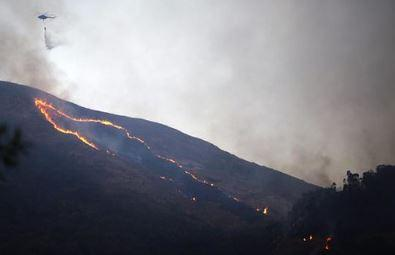fire: (34, 97, 53, 116), (54, 125, 79, 137), (97, 119, 115, 127)
smoke: (9, 19, 37, 69)
